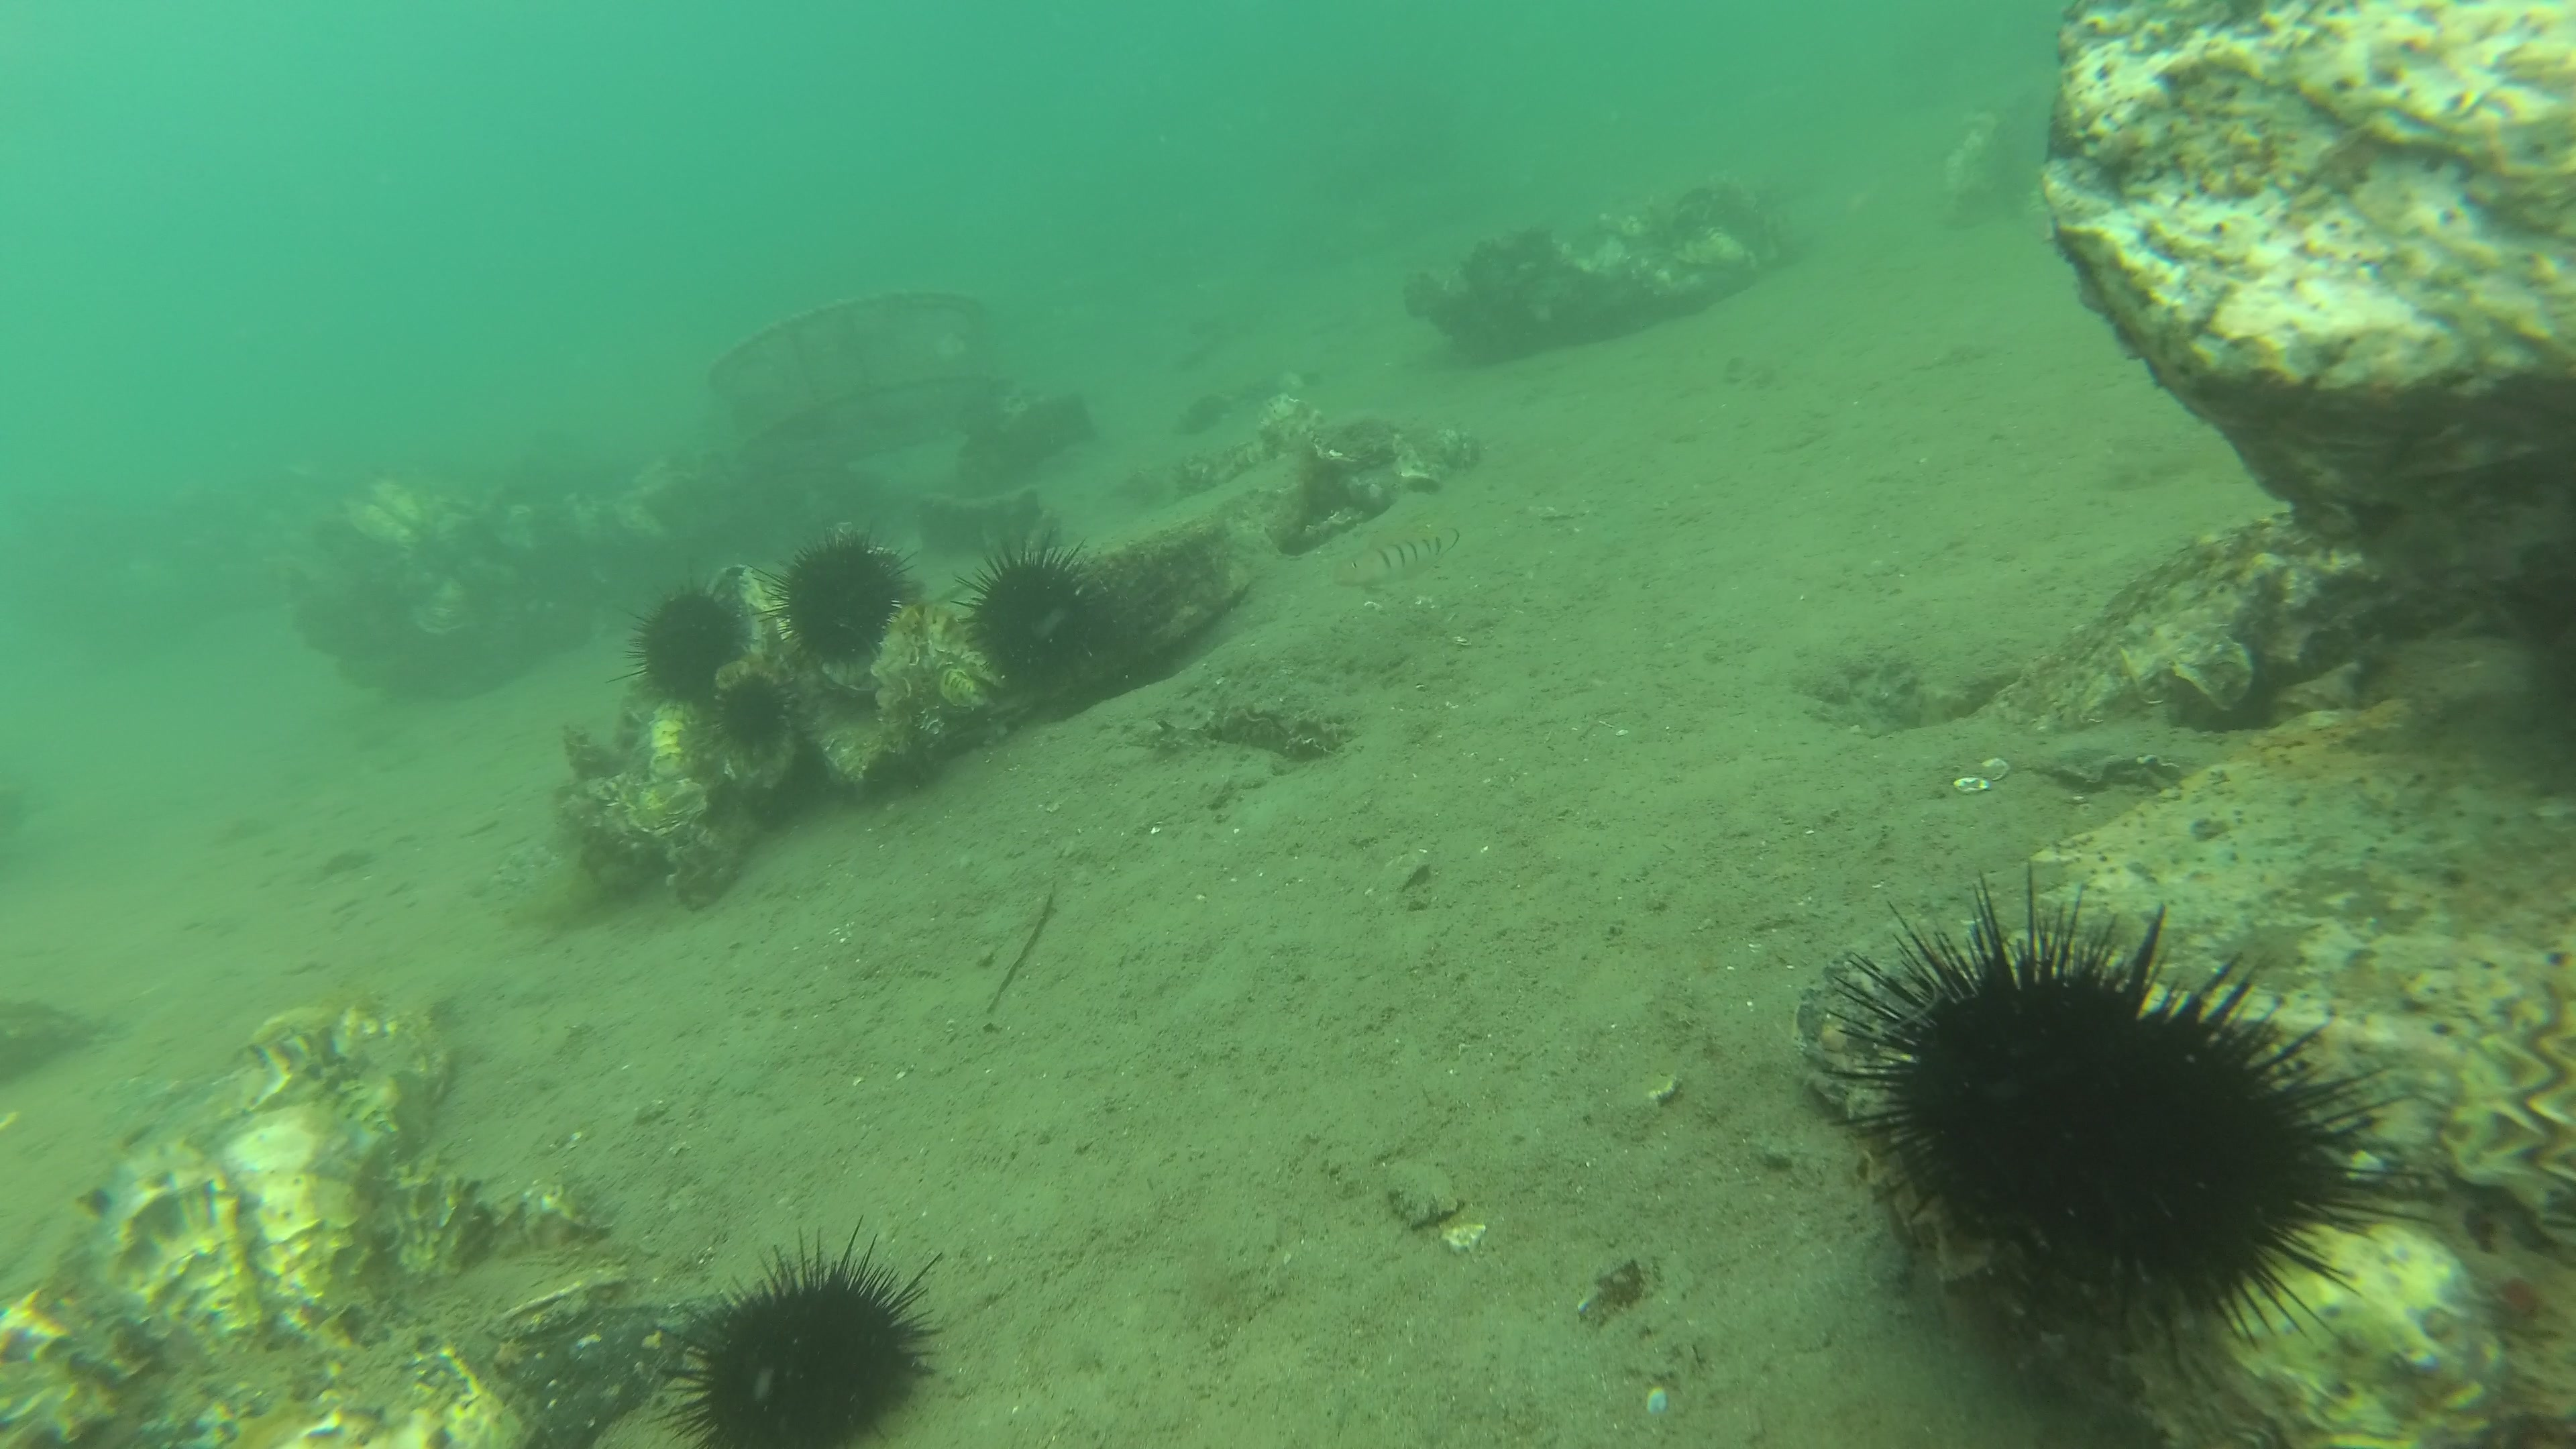echinus: (1819, 858, 2443, 1373), (646, 1214, 943, 1449), (947, 527, 1108, 704), (754, 518, 922, 678), (603, 573, 752, 713), (711, 667, 803, 761)
